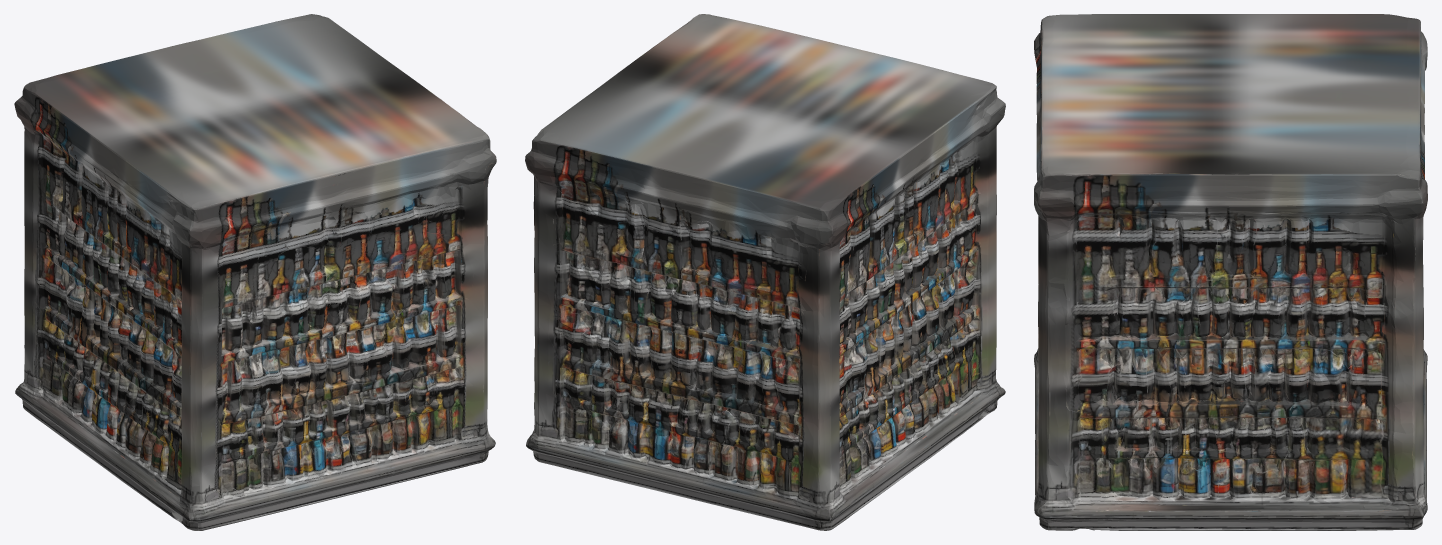
The model's file is bar_back.glb.
3 views of the same model, side by side, from view 1: azimuth 30°, elevation 25°; view 2: azimuth 150°, elevation 25°; view 3: azimuth 270°, elevation 25° (orthographic). The views are drawn at different scales.
Visible parts, largest first — view 1: bar_back; view 2: bar_back; view 3: bar_back.
Part boxes in pixels (bbox=[...]): bar_back: bbox=[14, 14, 496, 530]; bar_back: bbox=[525, 14, 1005, 530]; bar_back: bbox=[1034, 14, 1427, 530].
Size of the model in its own units: 1.1 by 1.1 by 1.1.
1 material, 1 textured.
